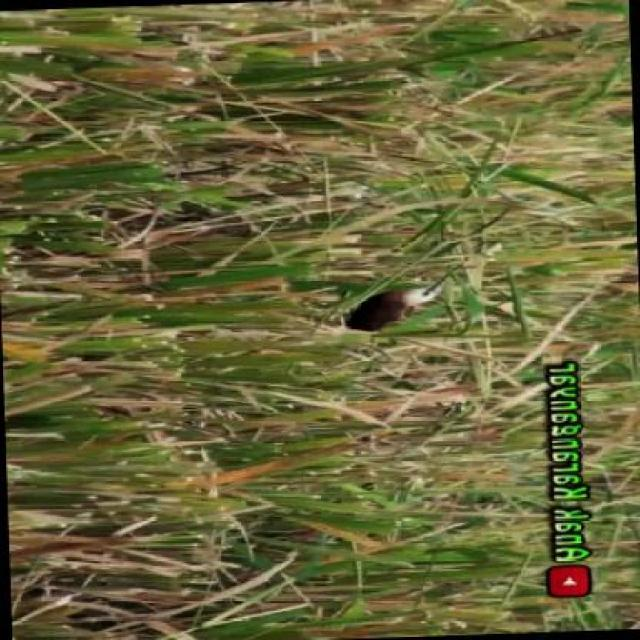Bird: (346, 279, 443, 340)
